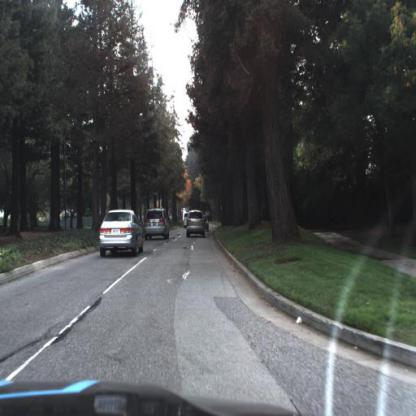car: (93, 209, 146, 258), (141, 204, 169, 242), (184, 205, 209, 237), (198, 208, 210, 232), (181, 209, 191, 232)
